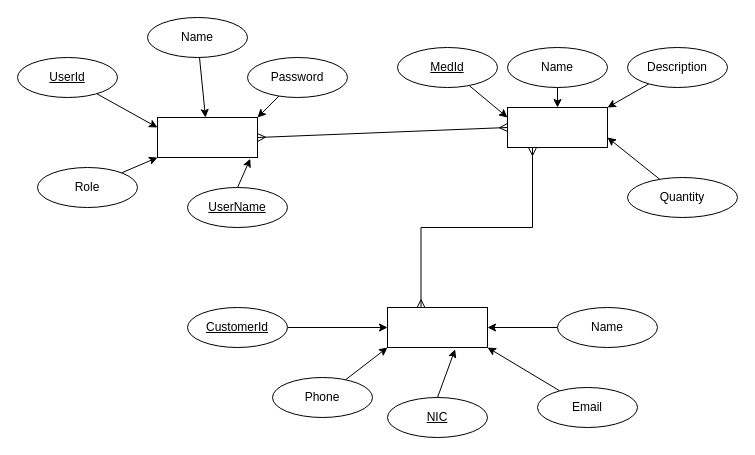
The diagram is 755 pixels wide and 455 high, and some of its shapes have lost their labels. Here are the shapes that lost their labels. From the top down, the centre of each, then its label:
At (207,137): "Users".
At (557,127): "Medication".
At (437,327): "Customer".
